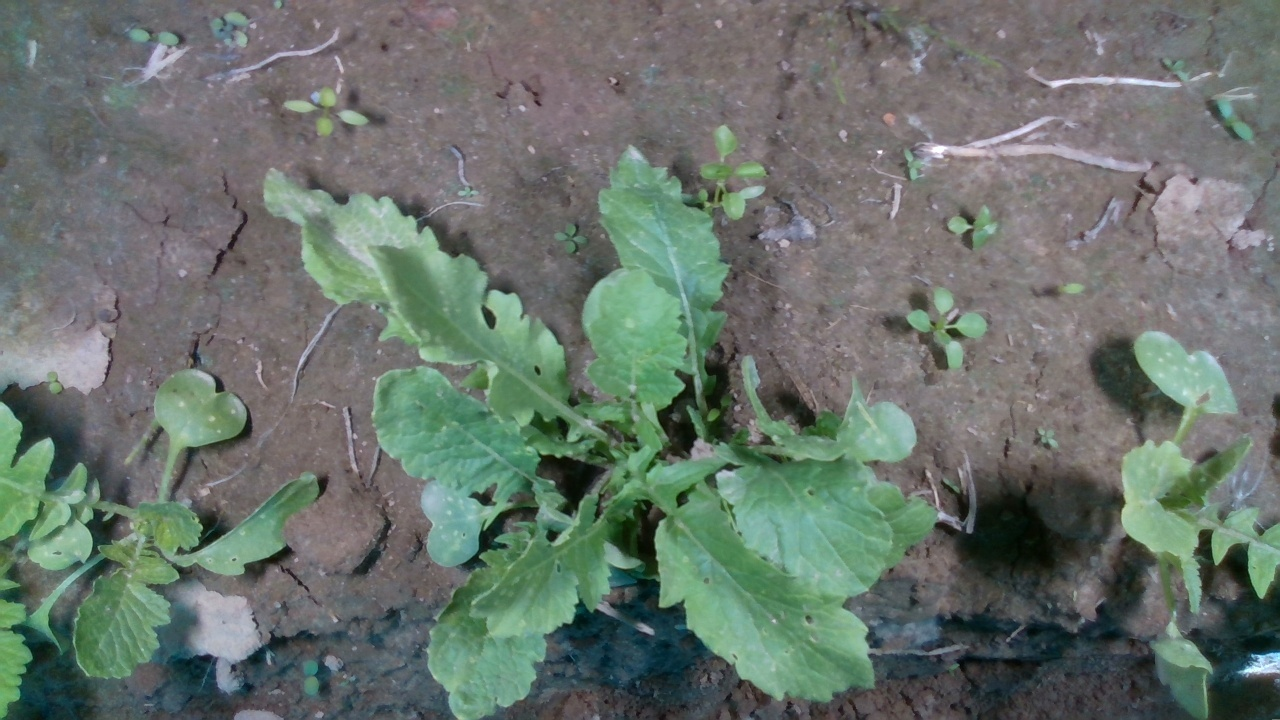weed: (276, 81, 372, 138), (944, 200, 999, 255), (1214, 97, 1255, 143), (552, 221, 590, 257), (122, 27, 181, 48), (1159, 54, 1191, 86), (900, 147, 926, 184), (300, 658, 320, 698), (1036, 426, 1060, 450), (45, 370, 64, 396), (454, 184, 479, 199)
